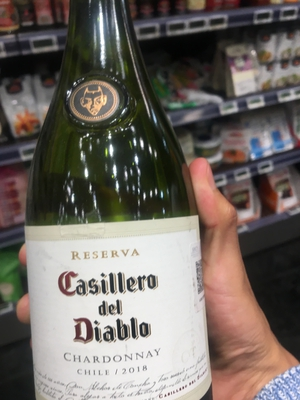casillero del diablo chardonnay: (26, 9, 215, 400)
